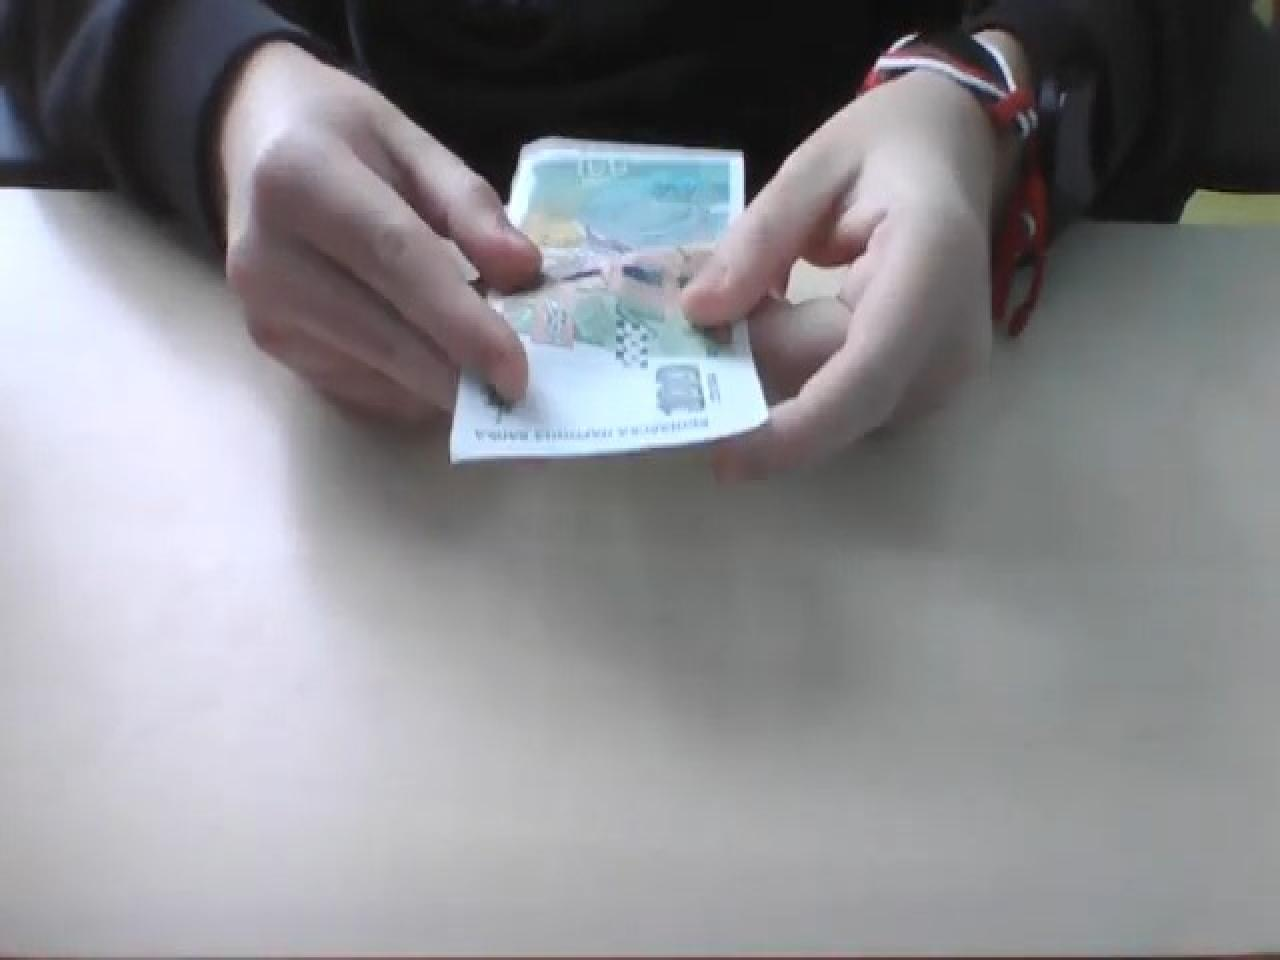100leva: (447, 133, 770, 464)
